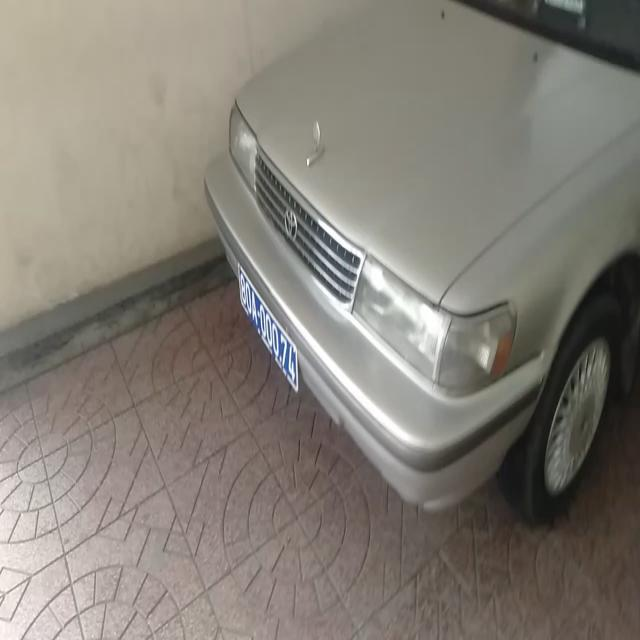bien_xanh: (228, 267, 302, 400)
